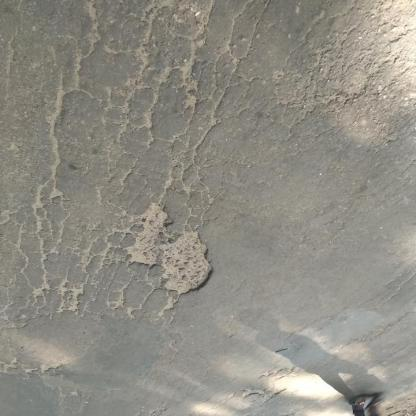pothole: (123, 202, 215, 301)
